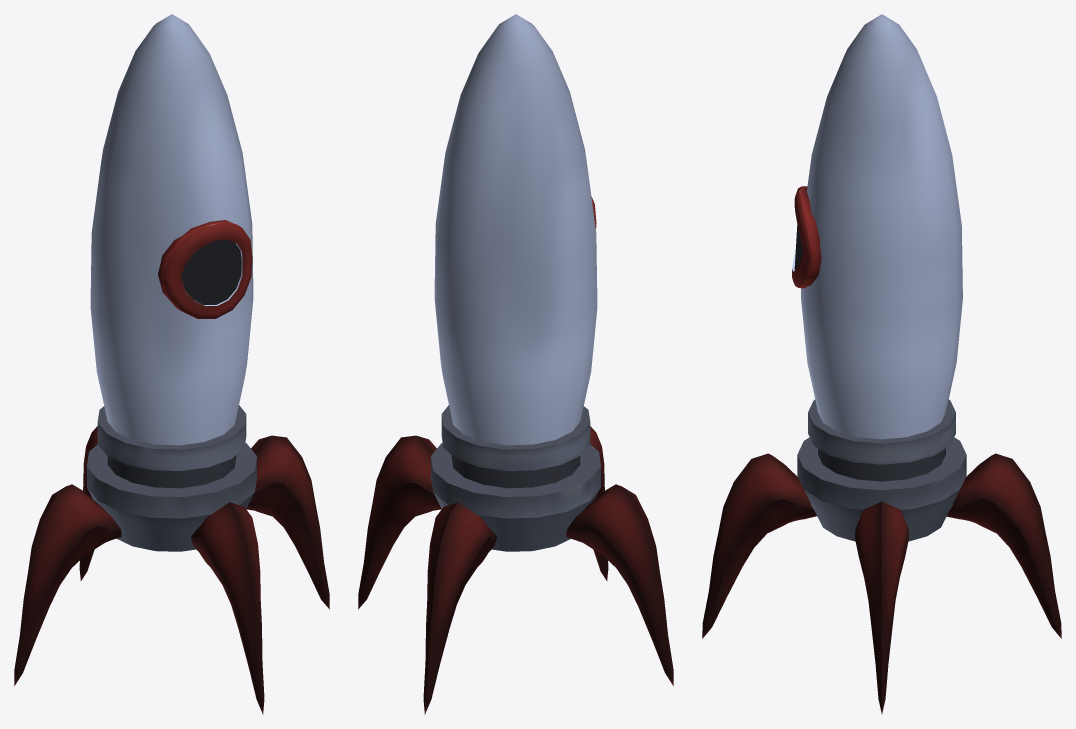
The model's file is Rocket.fbx.
The picture shows the model from 3 angles, left to right: view 1: azimuth 30°, elevation 25°; view 2: azimuth 150°, elevation 25°; view 3: azimuth 270°, elevation 25°; orthographic projection.
Visible parts, largest first — view 1: Sphere; view 2: Sphere; view 3: Sphere.
Part boxes in pixels (x1,y1,x2,y2): Sphere: (14, 14, 329, 714); Sphere: (358, 14, 673, 714); Sphere: (702, 14, 1061, 713).
Bounding box in the file's own units: 99.09 × 190 × 99.09.
